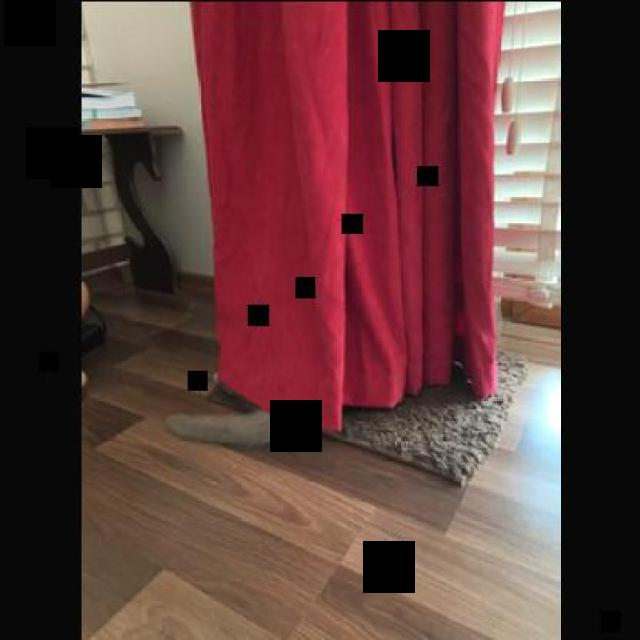unauthorized: (163, 346, 528, 486)
